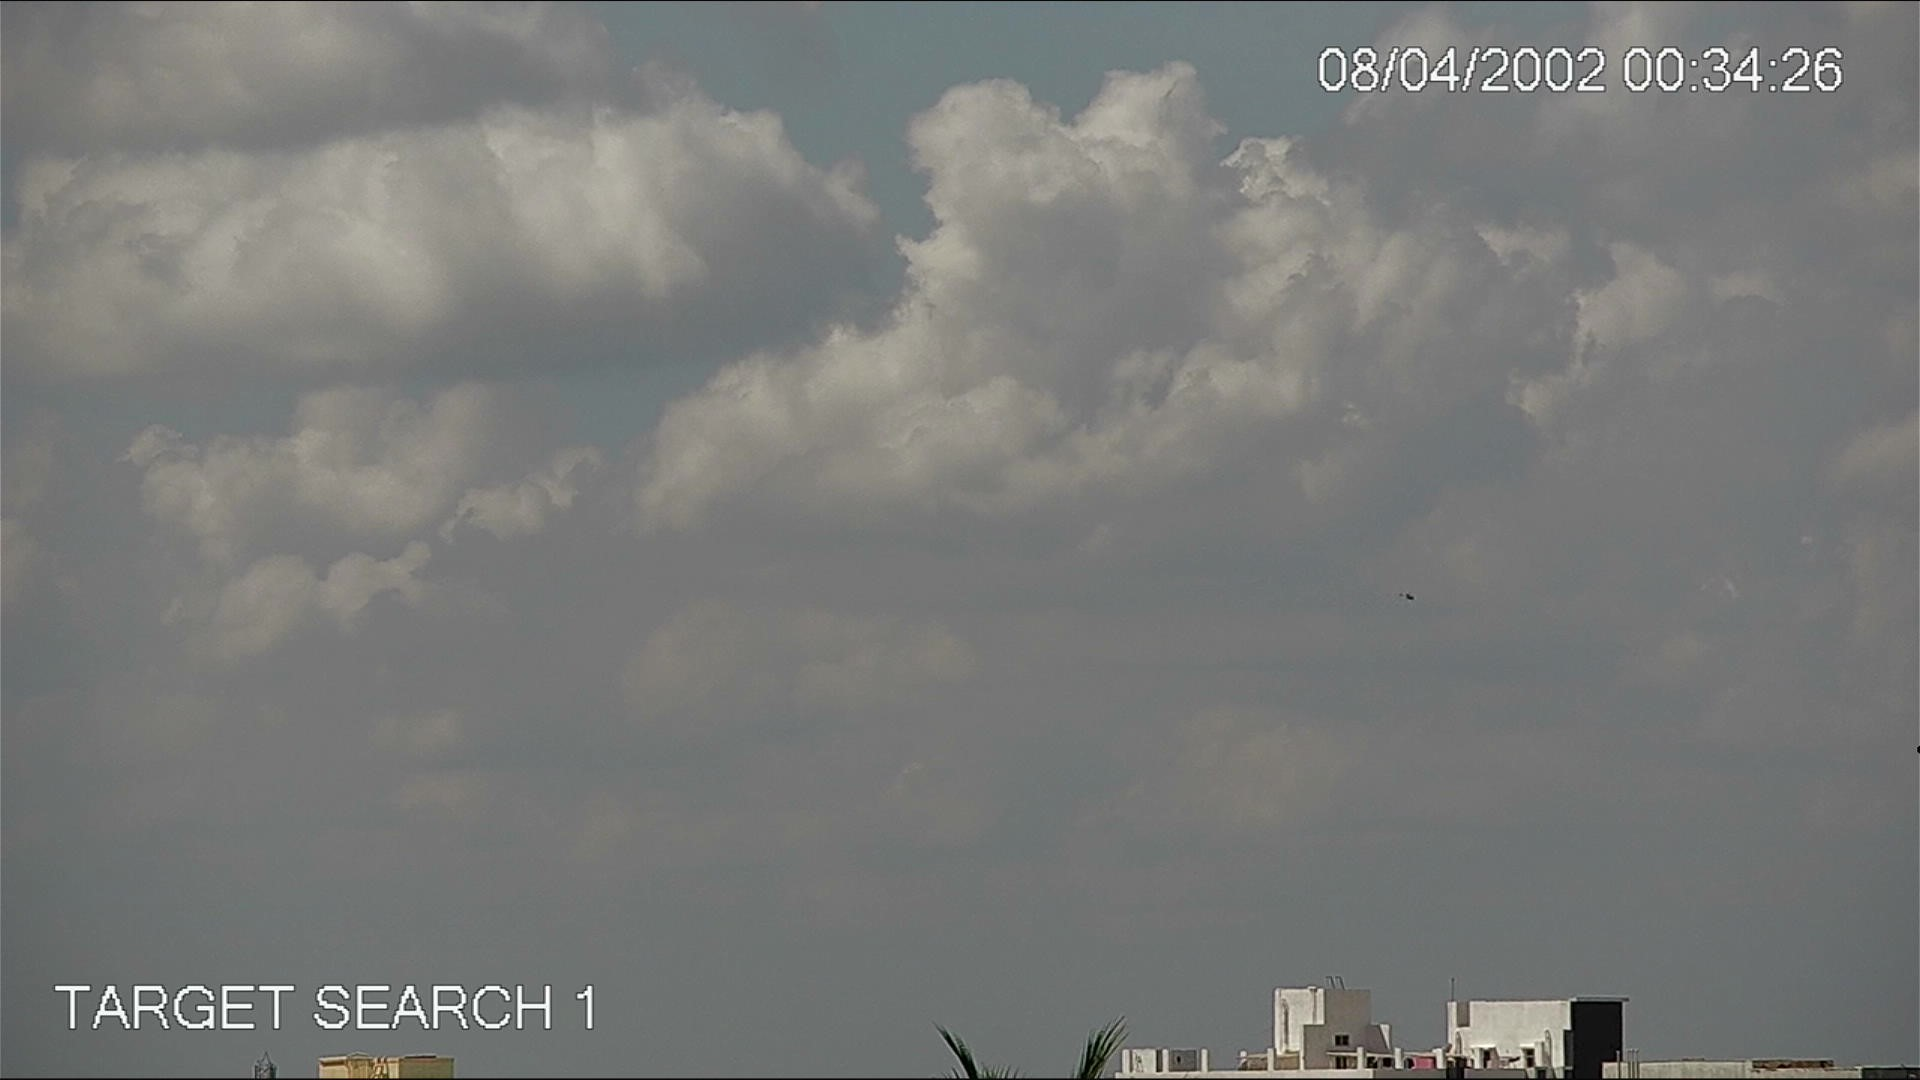SU_30: (1391, 587, 1422, 607)
